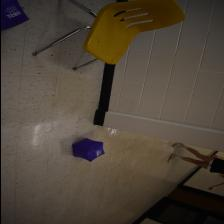cube: (0, 0, 30, 31), (70, 138, 104, 162)
